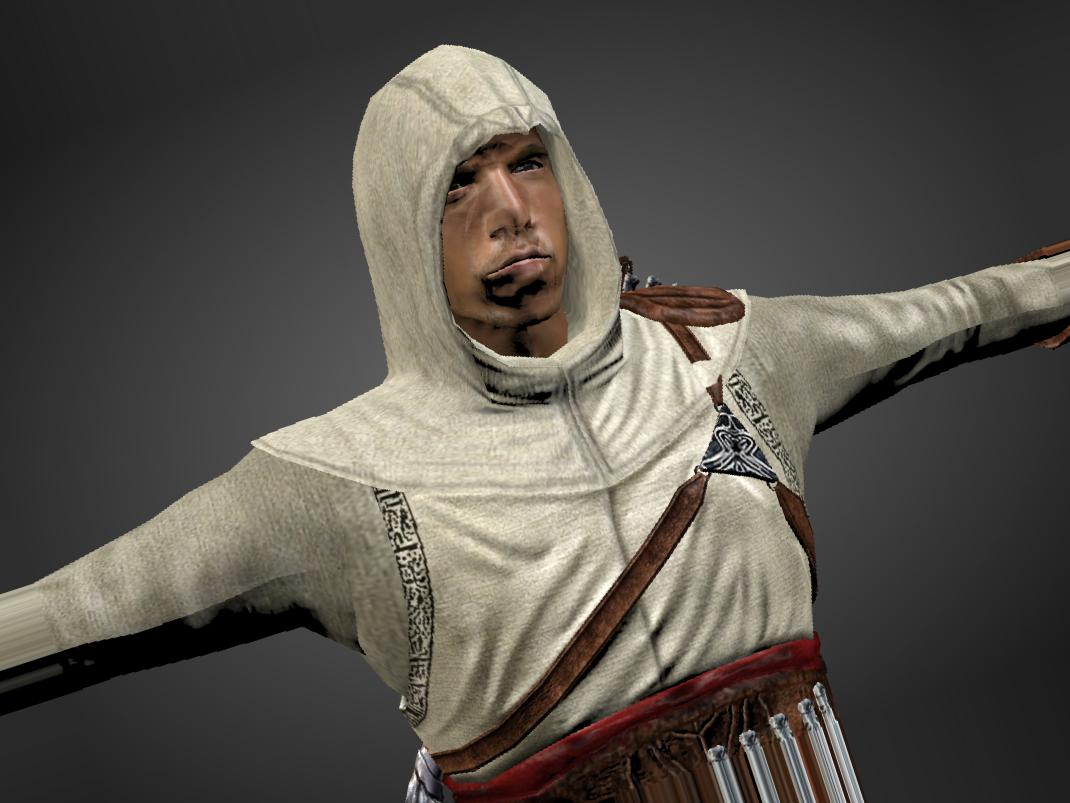clip: (691, 358, 722, 390)
